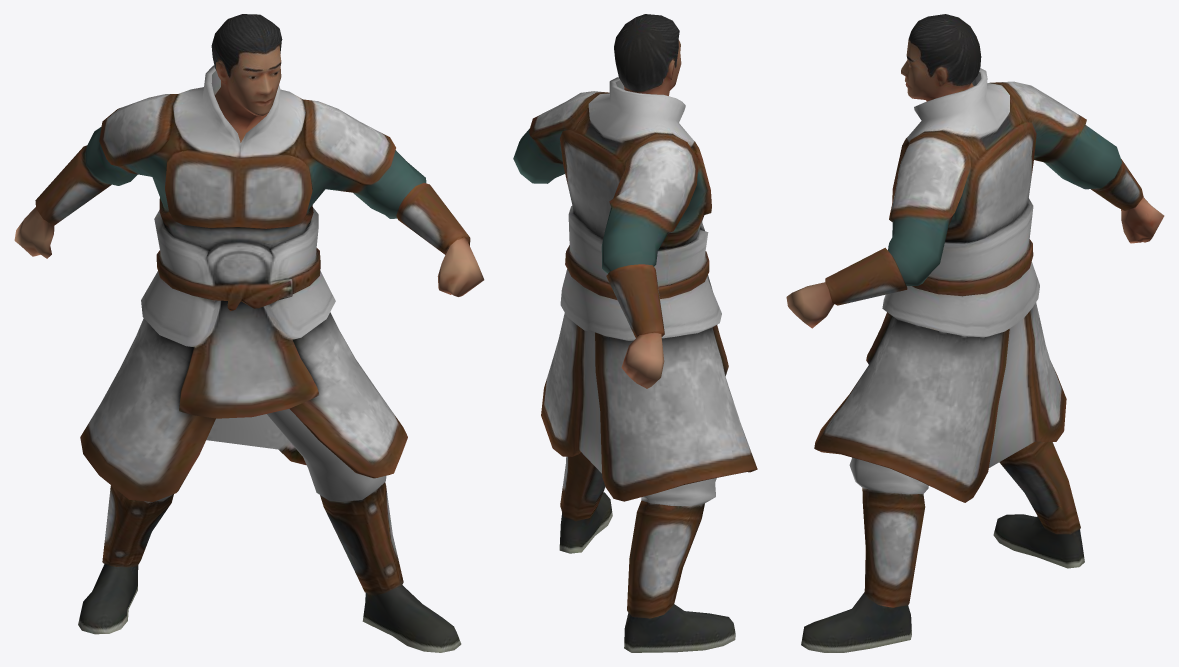
File: body-heavyinfantry.glb
3 views of the same model, side by side, from view 1: azimuth 30°, elevation 25°; view 2: azimuth 150°, elevation 25°; view 3: azimuth 270°, elevation 25° (orthographic). The views are drawn at different scales.
Bounding box in the file's own units: 1 × 1.99 × 1.2.
Materials: 1 (1 with a texture image).
